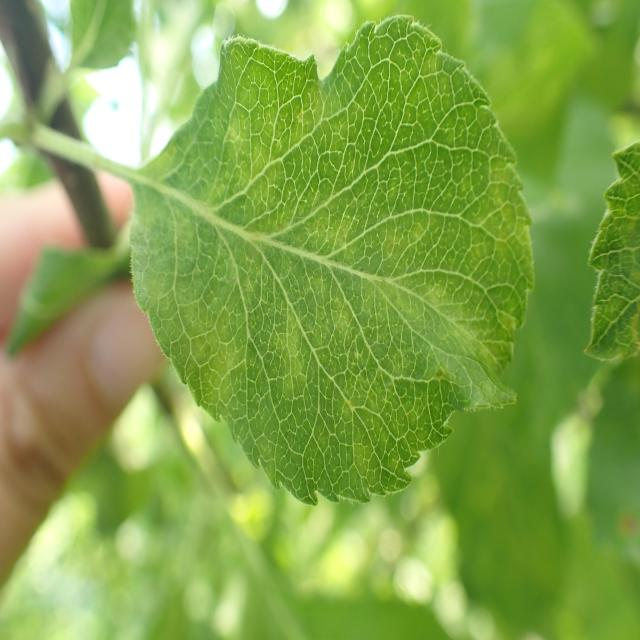scab: (126, 75, 528, 452)
